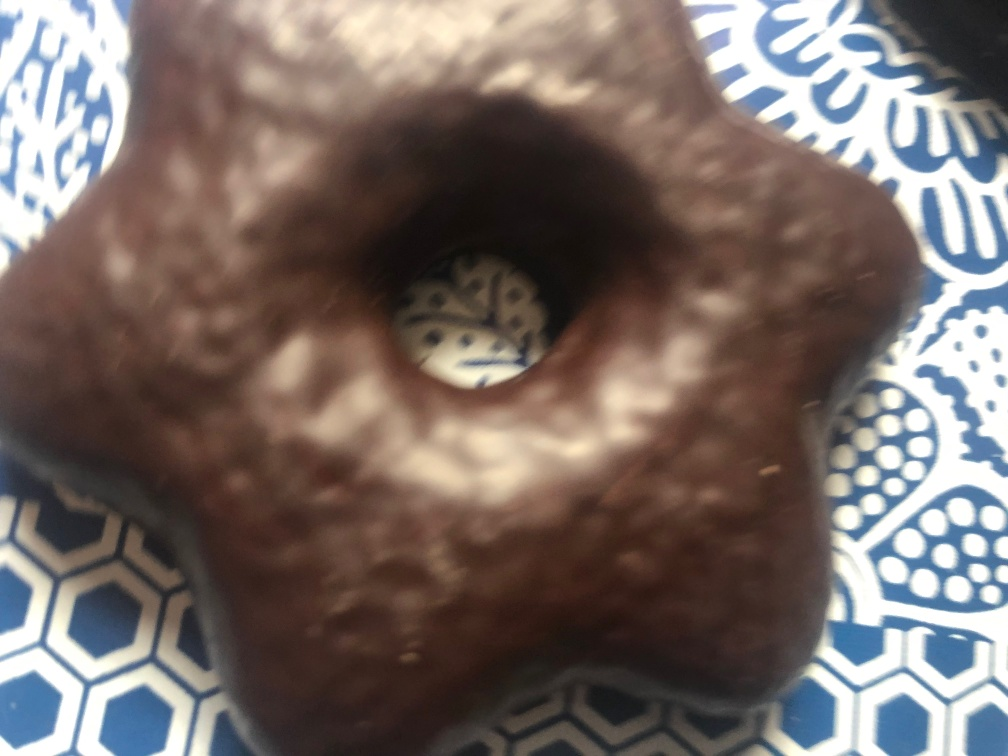star: (1, 4, 919, 743)
